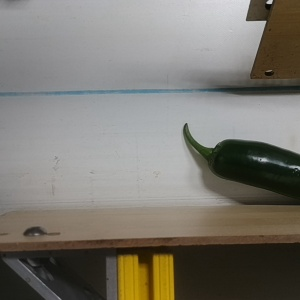Cut Point: (200, 135, 232, 180)
